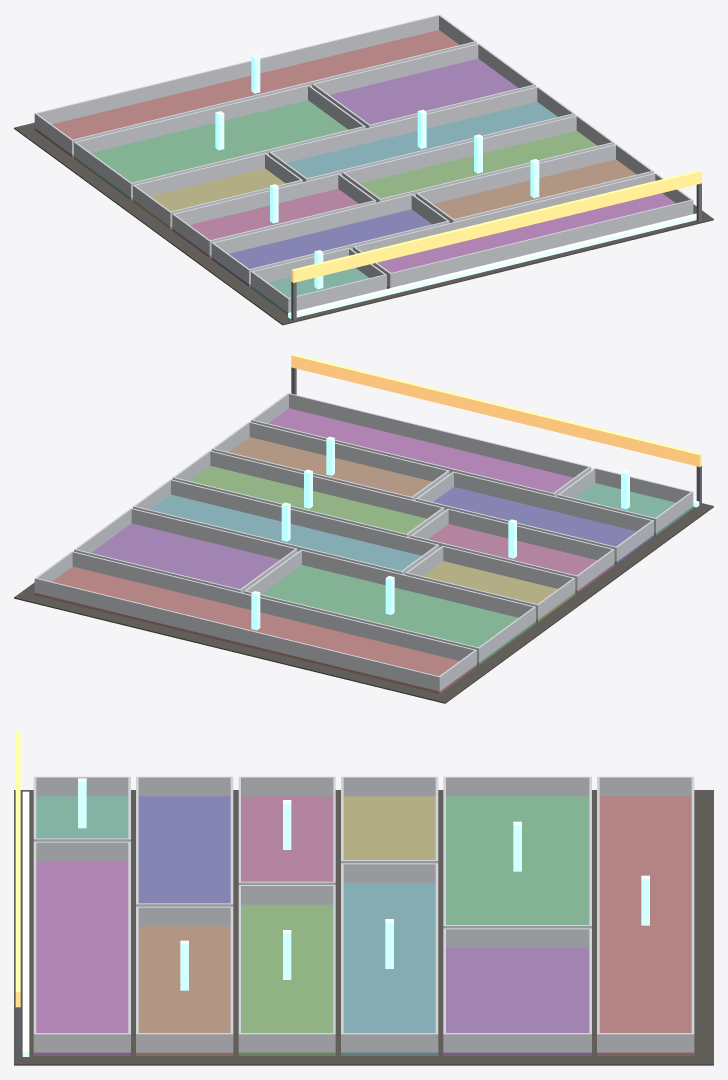
Rendered from hall-bricklayers.glb.
The picture shows the model from 3 angles, top to bottom: view 1: azimuth 30°, elevation 25°; view 2: azimuth 150°, elevation 25°; view 3: azimuth 270°, elevation 25°; orthographic projection. The views are drawn at different scales.
Visible parts, largest first — view 1: Bricklayers & Allied Craft; view 2: Bricklayers & Allied Craft; view 3: Bricklayers & Allied Craft.
Part boxes in pixels (x1,y1,x2,y2): Bricklayers & Allied Craft: (14, 14, 713, 325); Bricklayers & Allied Craft: (14, 354, 713, 703); Bricklayers & Allied Craft: (14, 732, 713, 1065).
Size of the model in its own units: 38 by 4.3 by 41.
